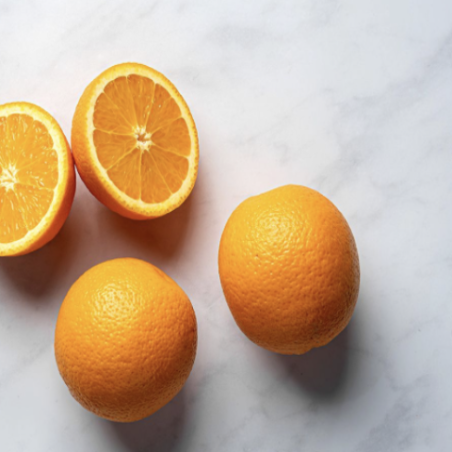orange: (204, 181, 367, 359), (41, 253, 208, 420)
